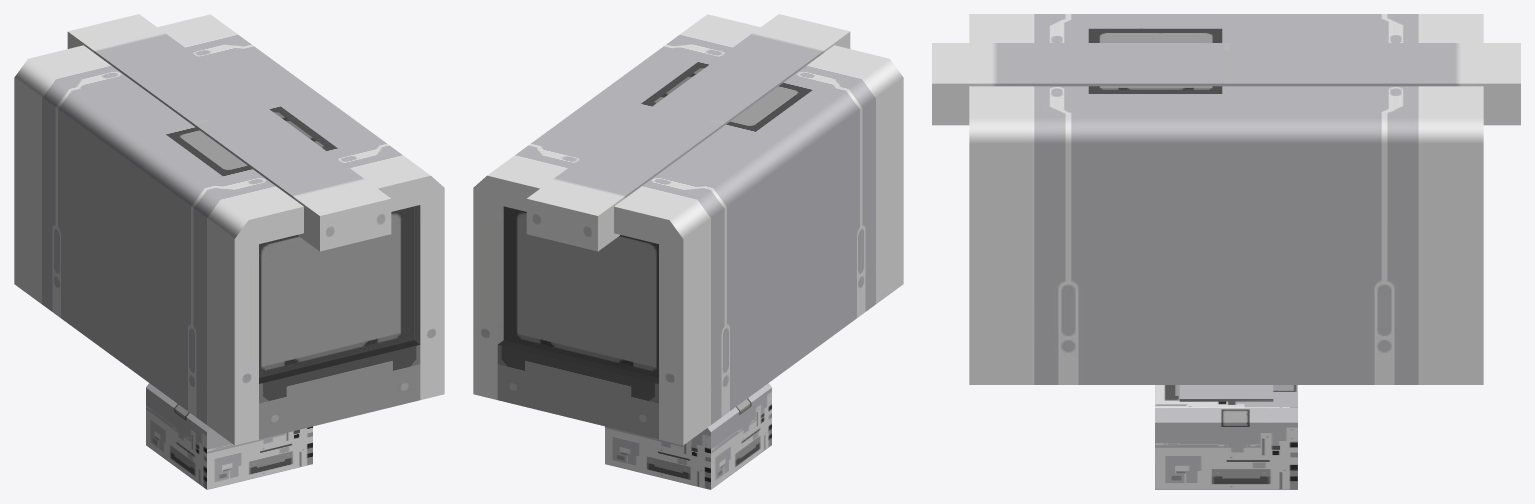
3 views of the same model, side by side, from view 1: azimuth 30°, elevation 25°; view 2: azimuth 150°, elevation 25°; view 3: azimuth 270°, elevation 25° (orthographic). The views are drawn at different scales.
Parts seen in each view (by area): view 1: inserter-4; view 2: inserter-4; view 3: inserter-4.
Part boxes in pixels (<box>): inserter-4: <box>14,14,444,489</box>; inserter-4: <box>473,14,903,489</box>; inserter-4: <box>932,14,1520,489</box>.
Bounding box in the file's own units: 0.99 × 1.53 × 2.06.
2 materials, 2 textured.
